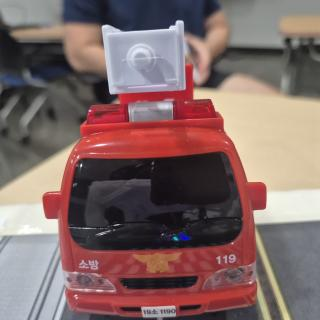Fire_truck: (43, 20, 266, 320)
